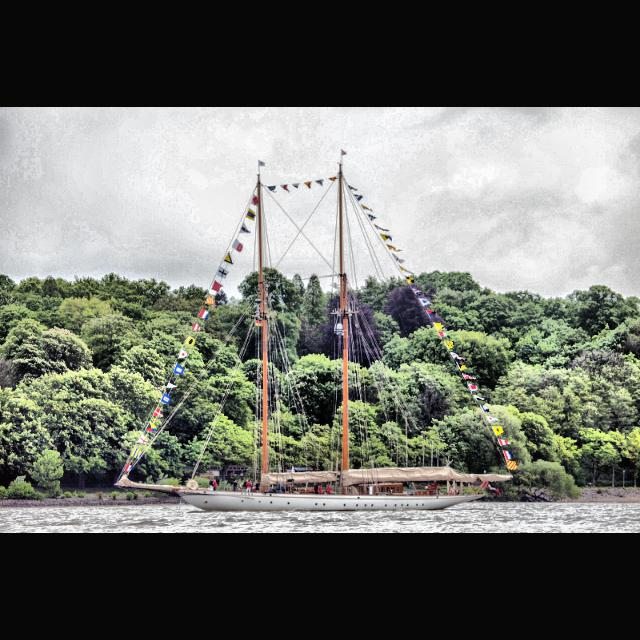sailing_vessel: (114, 149, 516, 513)
